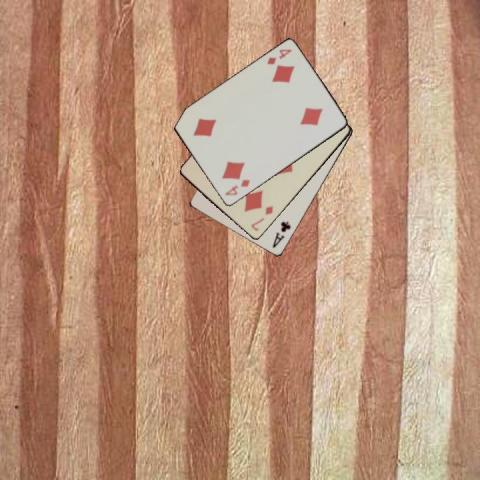4d: (264, 46, 294, 66), (222, 177, 251, 197)
7d: (248, 202, 275, 232)
Ac: (269, 219, 292, 249)
